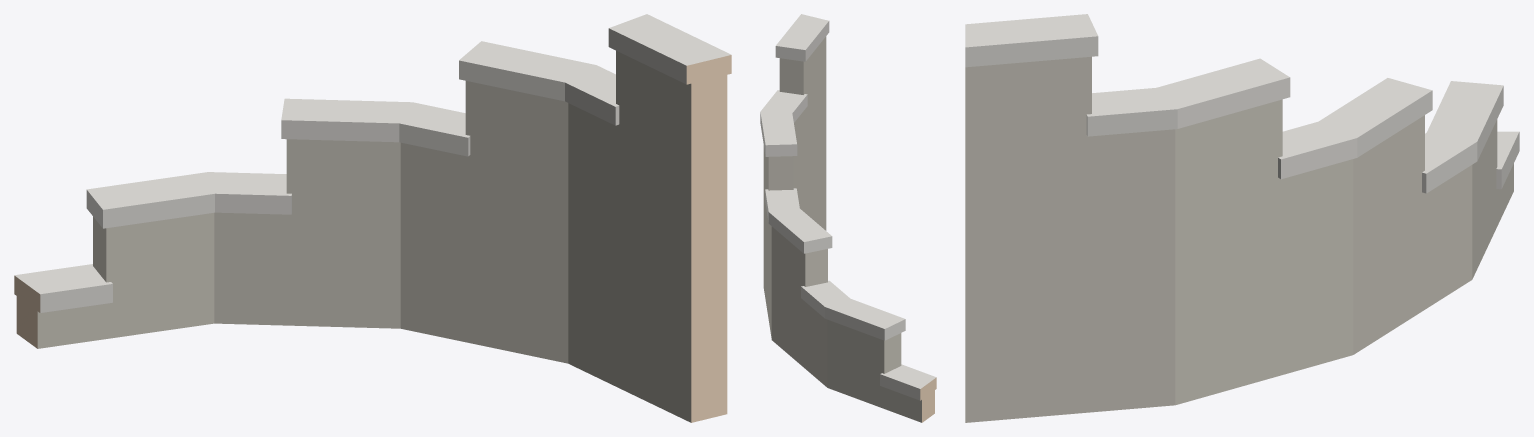
The model's file is Tiered_Retaining_Wall_Stepped_Curve_Tall_3x3.glb.
The picture shows the model from 3 angles, left to right: view 1: azimuth 30°, elevation 25°; view 2: azimuth 150°, elevation 25°; view 3: azimuth 270°, elevation 25°; orthographic projection. The views are drawn at different scales.
Parts seen in each view (by area): view 1: Tiered_Retaining_Wall_Stepped_Curve_Tall_3x3; view 2: Tiered_Retaining_Wall_Stepped_Curve_Tall_3x3; view 3: Tiered_Retaining_Wall_Stepped_Curve_Tall_3x3.
Part boxes in pixels (left/top/right/bottom): Tiered_Retaining_Wall_Stepped_Curve_Tall_3x3: left=14, top=14, right=731, bottom=422; Tiered_Retaining_Wall_Stepped_Curve_Tall_3x3: left=760, top=14, right=936, bottom=422; Tiered_Retaining_Wall_Stepped_Curve_Tall_3x3: left=965, top=14, right=1519, bottom=422.
Bounding box in the file's own units: 316 × 238 × 316.
